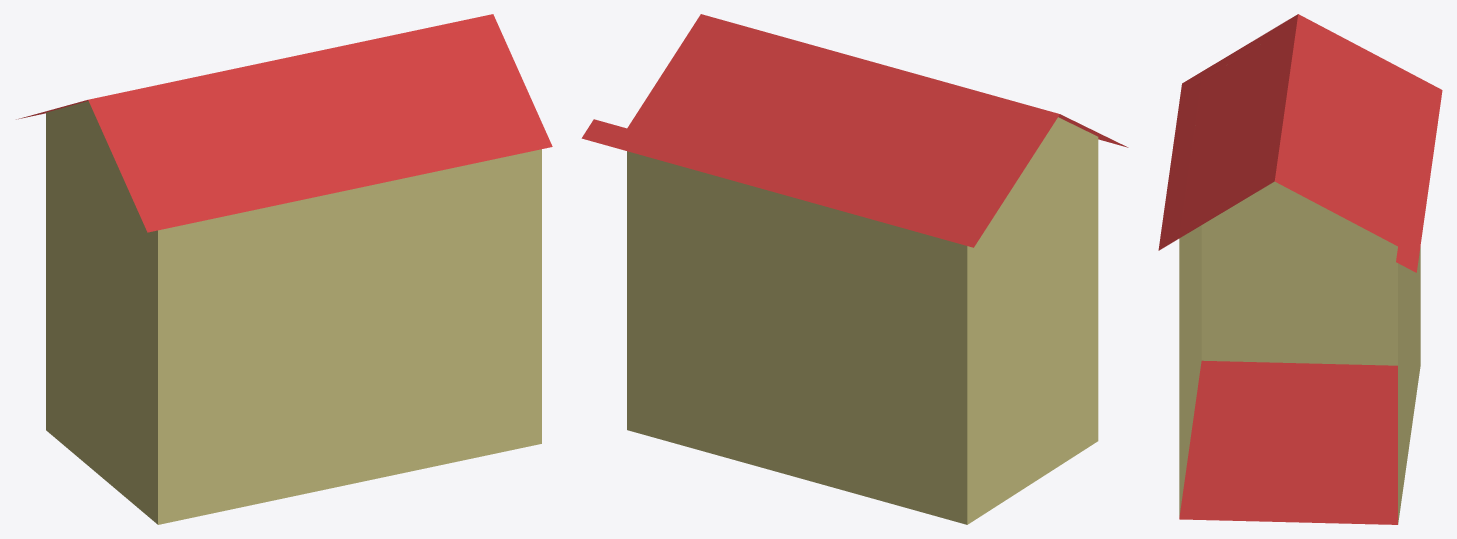
3 views of the same model, side by side, from view 1: azimuth 30°, elevation 25°; view 2: azimuth 150°, elevation 25°; view 3: azimuth 270°, elevation 25° (orthographic). The views are drawn at different scales.
Size of the model in its own units: 10.77 by 6.82 by 9.02.
